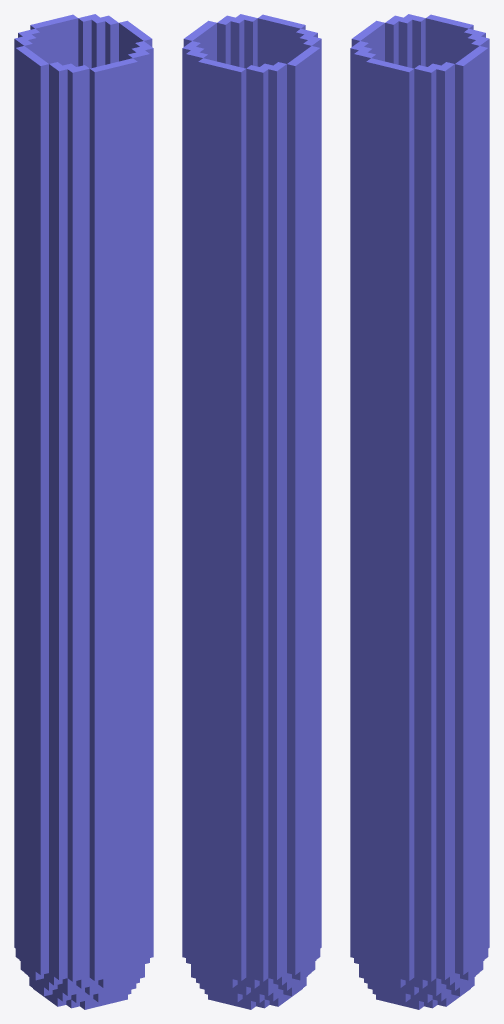
Rendered from Test Tube Rack2-6-1.fbx.
3 views of the same model, side by side, from view 1: azimuth 30°, elevation 25°; view 2: azimuth 150°, elevation 25°; view 3: azimuth 330°, elevation 25° (orthographic).
Visible parts, largest first — view 1: Test Tube Rack2-6-1.001; view 2: Test Tube Rack2-6-1.001; view 3: Test Tube Rack2-6-1.001.
Boxes of the visible parts, x1,y1,x2,y2 form: Test Tube Rack2-6-1.001: (14, 14, 153, 1009); Test Tube Rack2-6-1.001: (182, 14, 321, 1009); Test Tube Rack2-6-1.001: (350, 14, 489, 1009).
Bounding box in the file's own units: 1.3 × 10.5 × 1.3.
